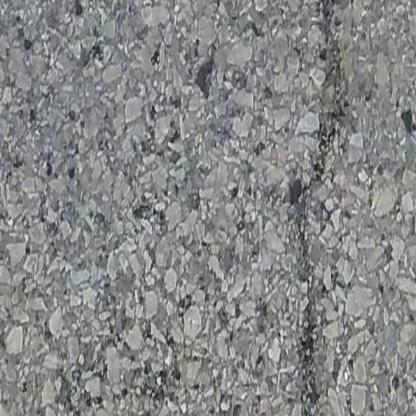Cracks: (293, 0, 351, 284), (302, 315, 328, 416)
